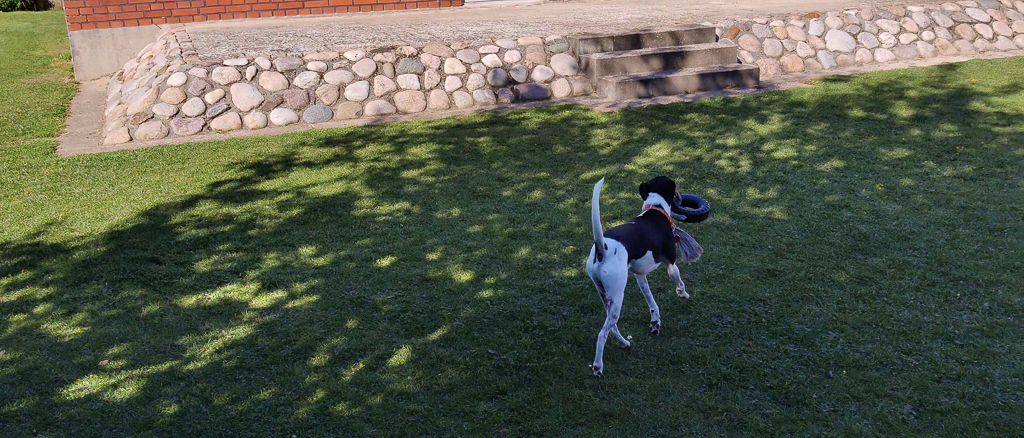Dog: (571, 162, 709, 388)
